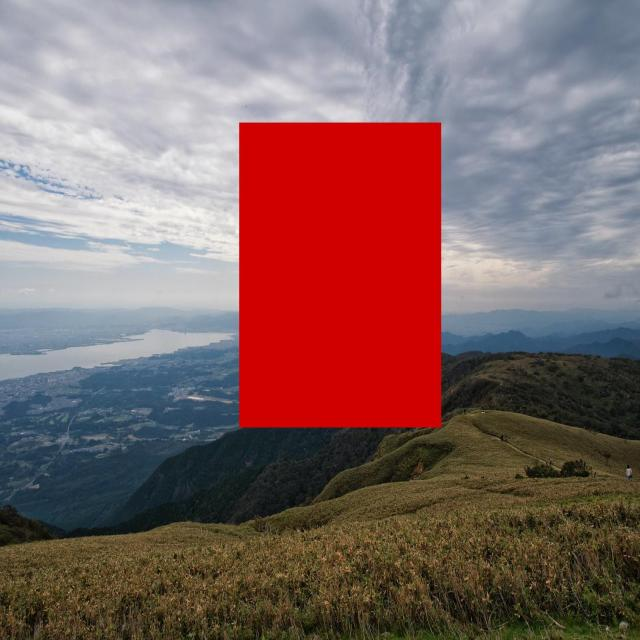RedSquare: (232, 113, 448, 435)
